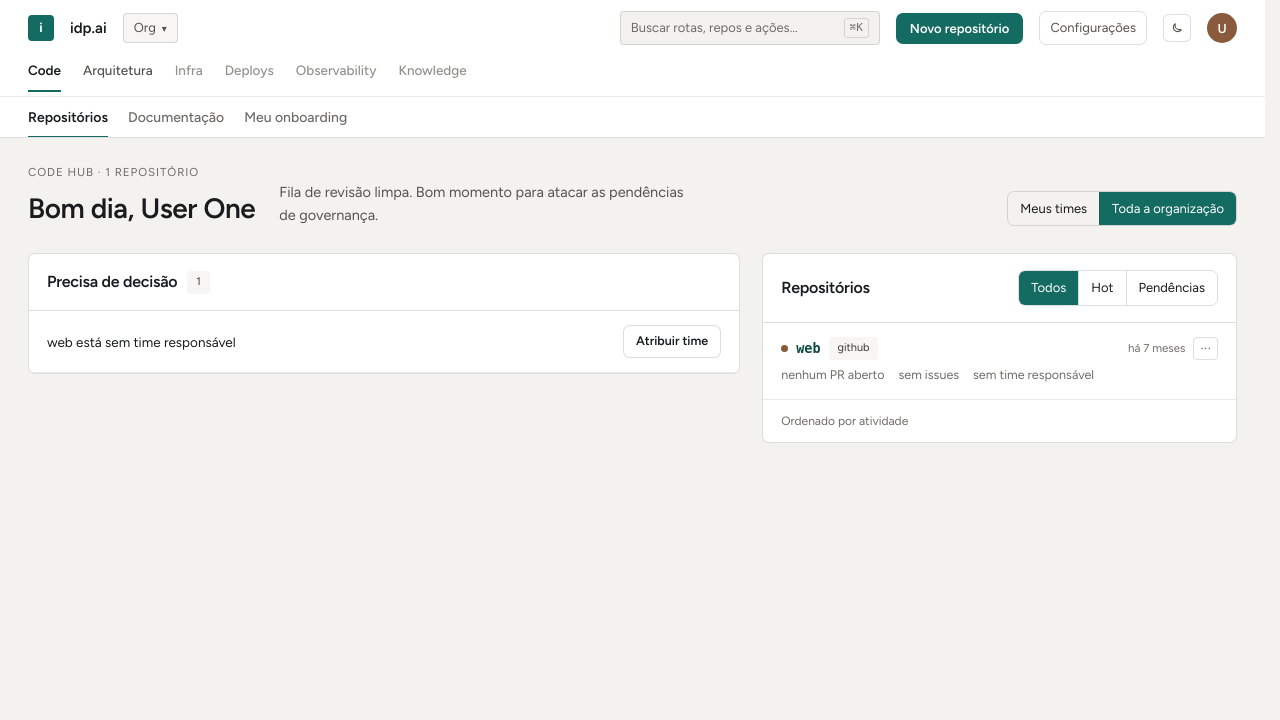
HomeClient › offers no semantic-search entry in the repository actions menu
Click the button named "abrir menu de web". click: {"x": 1206, "y": 348}
box: [1193,337,1218,360]
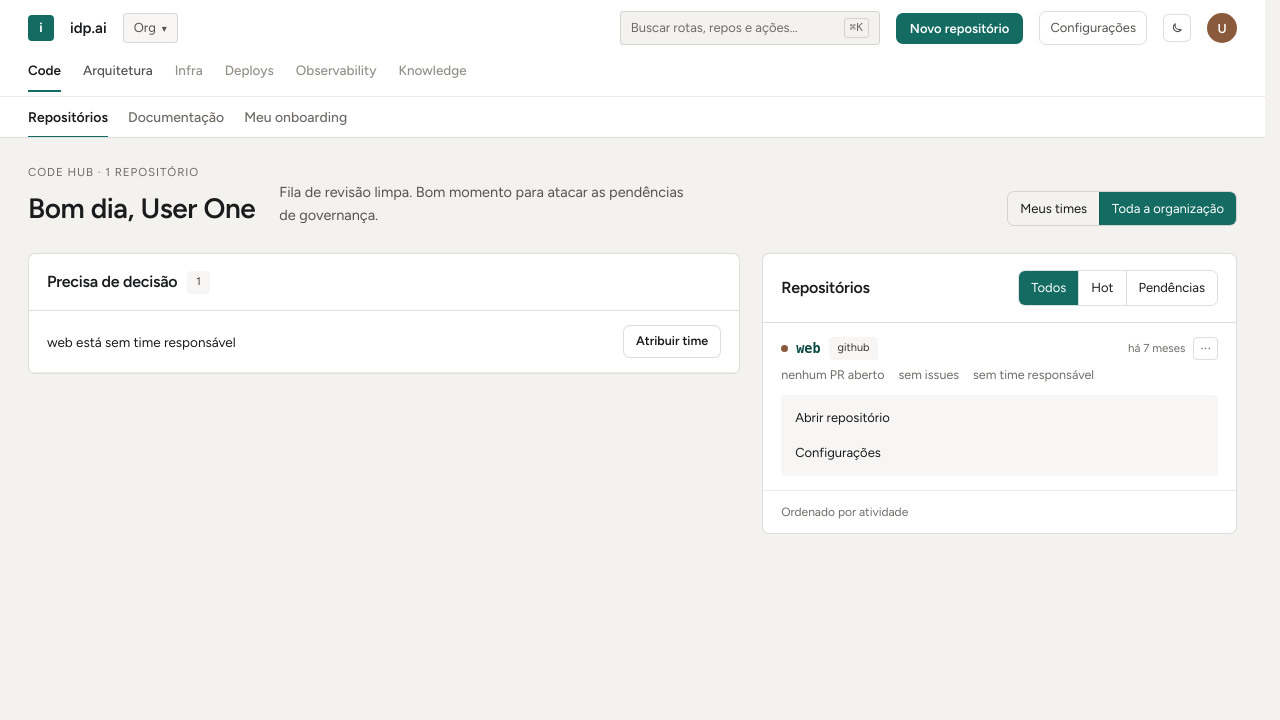
Now the menu item "Configurações" is shown, box [787,436,1212,470]
